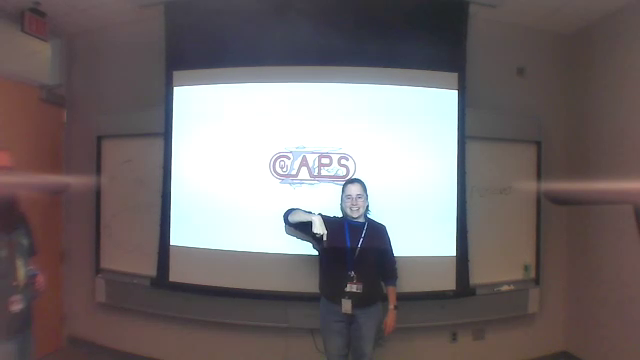down: (307, 211, 330, 250)
